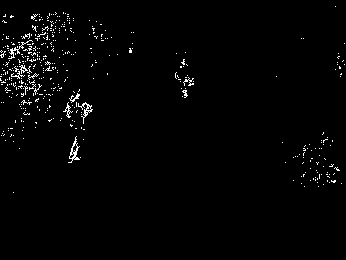person: (64, 92, 92, 165), (176, 57, 195, 99)
